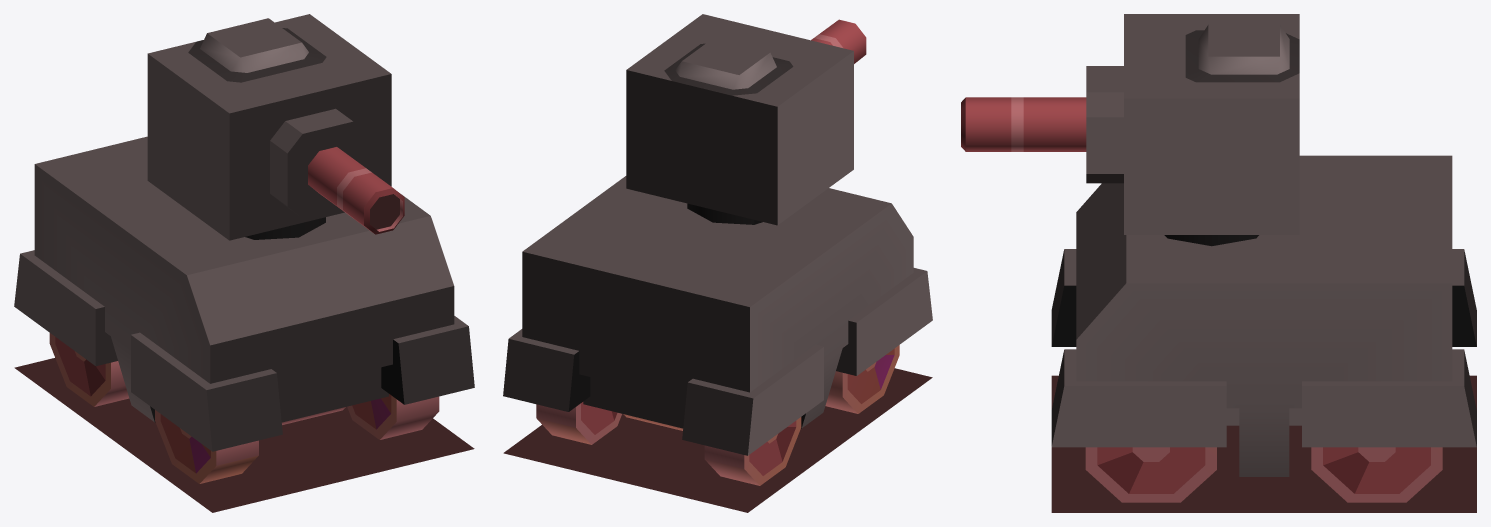
Rendered from ReconMesh.NoireEclipse.glb.
3 views of the same model, side by side, from view 1: azimuth 30°, elevation 25°; view 2: azimuth 150°, elevation 25°; view 3: azimuth 270°, elevation 25° (orthographic). The views are drawn at different scales.
Visible parts, largest first — view 1: ReconMesh.NoireEclipse; view 2: ReconMesh.NoireEclipse; view 3: ReconMesh.NoireEclipse.
Boxes of the visible parts, x1,y1,x2,y2 form: ReconMesh.NoireEclipse: [14, 14, 474, 512]; ReconMesh.NoireEclipse: [503, 14, 932, 512]; ReconMesh.NoireEclipse: [961, 14, 1476, 512].
Size of the model in its own units: 1.29 by 1.79 by 2.06.
Materials: 1 (1 with a texture image).
